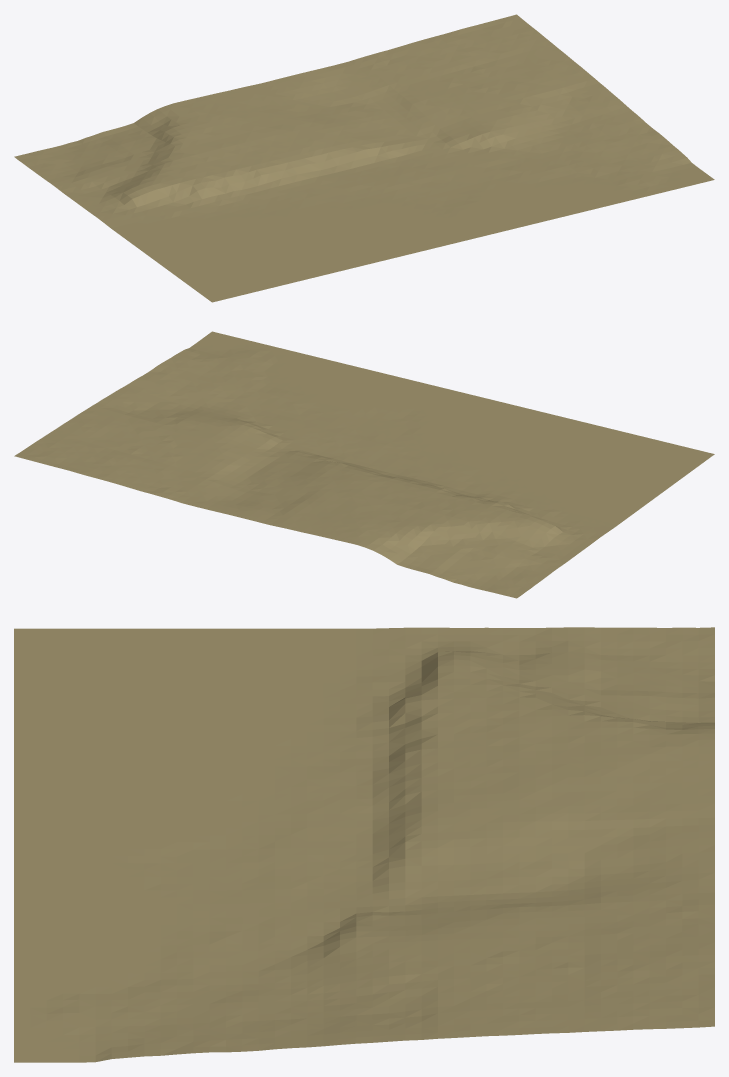
The model's file is terrain.obj.
The picture shows the model from 3 angles, top to bottom: view 1: azimuth 30°, elevation 25°; view 2: azimuth 150°, elevation 25°; view 3: azimuth 270°, elevation 25°; orthographic projection. The views are drawn at different scales.
Bounding box in the file's own units: 630 × 24.85 × 430.
